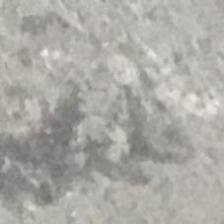Non_Crack: (17, 16, 223, 224)
